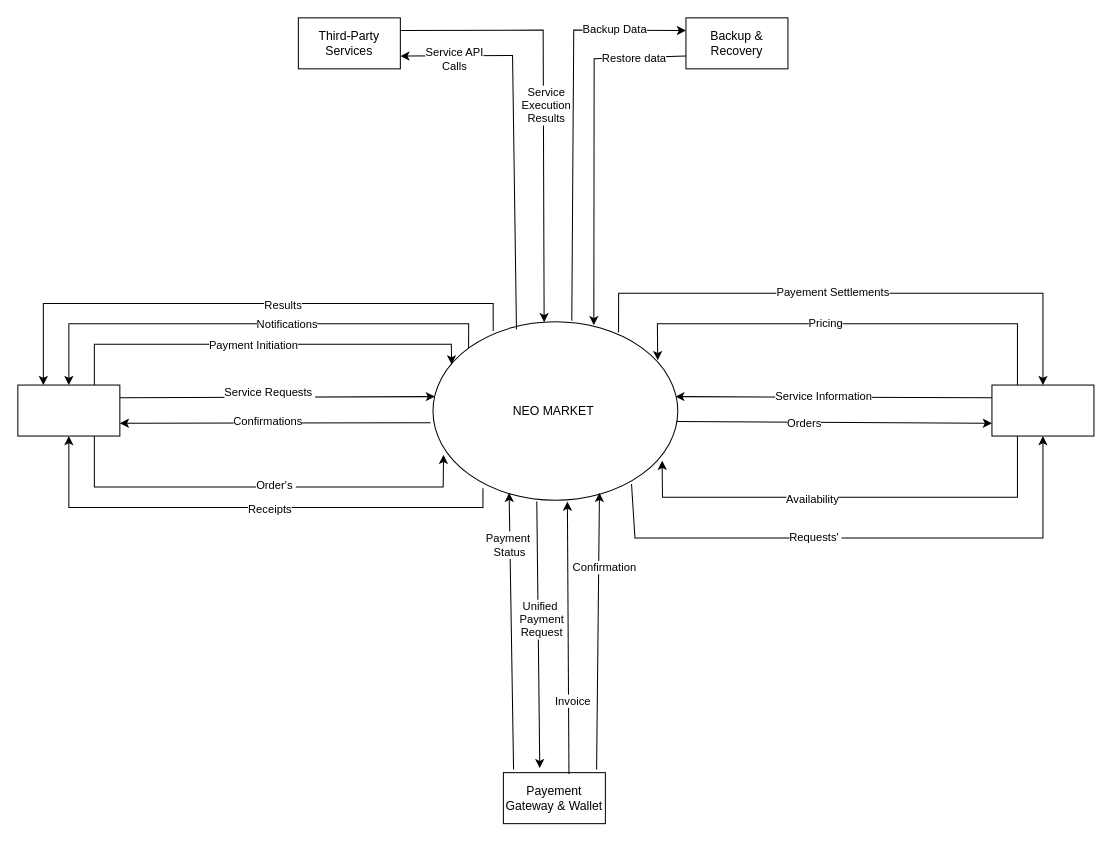
The diagram is 1112 pixels wide and 842 high, and some of its shapes have lost their labels. Here are the shapes that lost their labels. From the top down, the centre of each, then its label:
At [68,410]: "End User / Customer".
At [1042,410]: "Providers / vendors".
